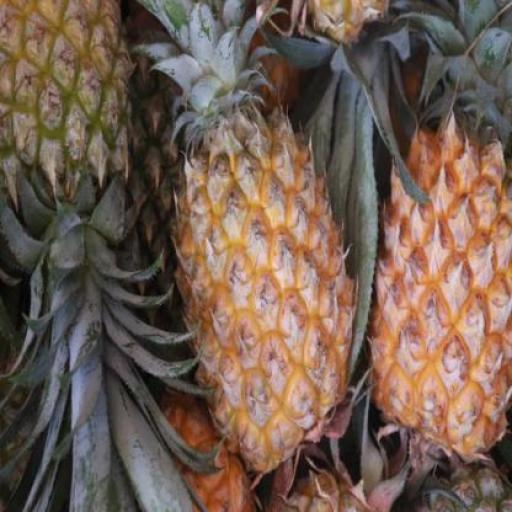------------------------------: (0, 0, 129, 213)
Pineapple - v8 v1: (162, 110, 356, 471), (367, 112, 512, 462)
